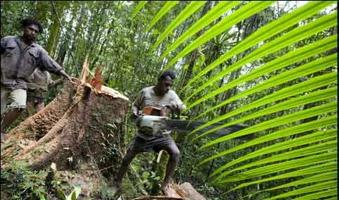person: (115, 71, 189, 197)
